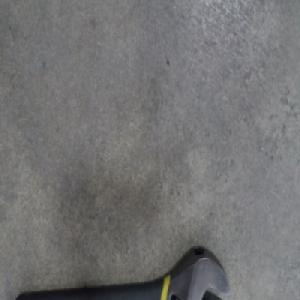AdjustableWrench: (17, 245, 230, 300)
